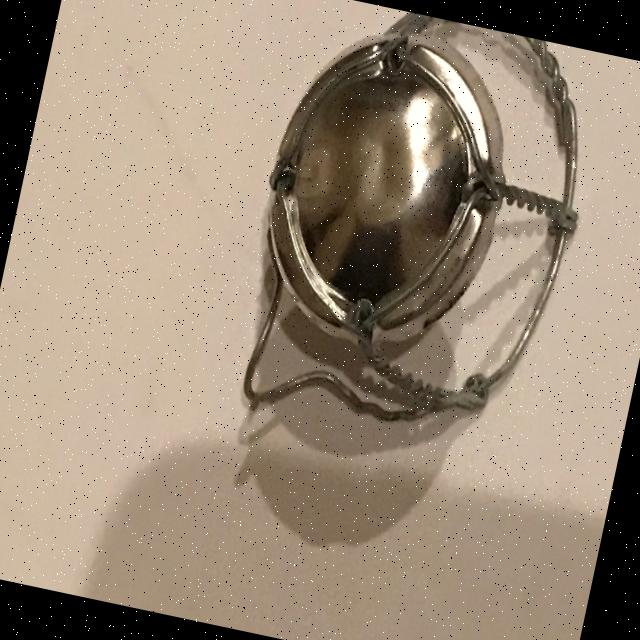metal: (220, 0, 612, 466)
